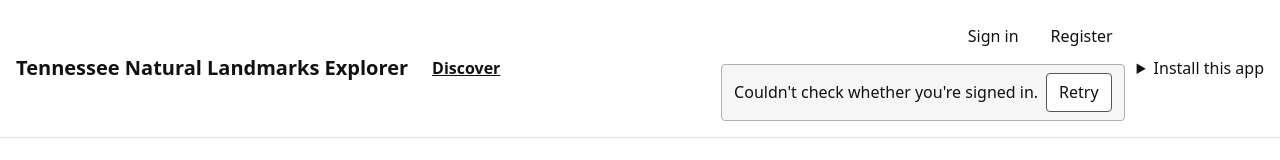
Scenario: AccountNav — retry › Retry re-checks, shows progress, and moves focus to the resolved state's first control
Click the button "Retry". click: click(1079, 92)
box: [1046,73,1112,112]
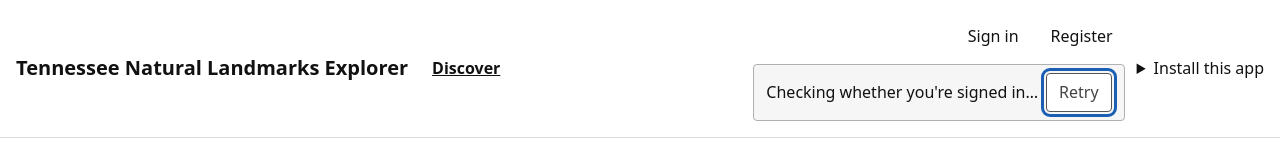
Result: the message reads "Checking whether you're signed in…" at [766,81,1038,103]
Click the button "Retry". click: click(1079, 92)
box: [1046,73,1112,112]
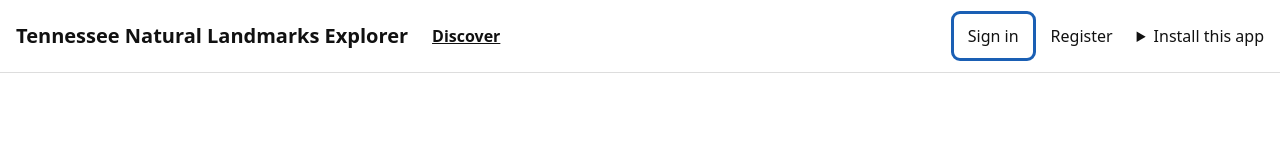
Result: the message "Checking whether you're signed in…" is gone
